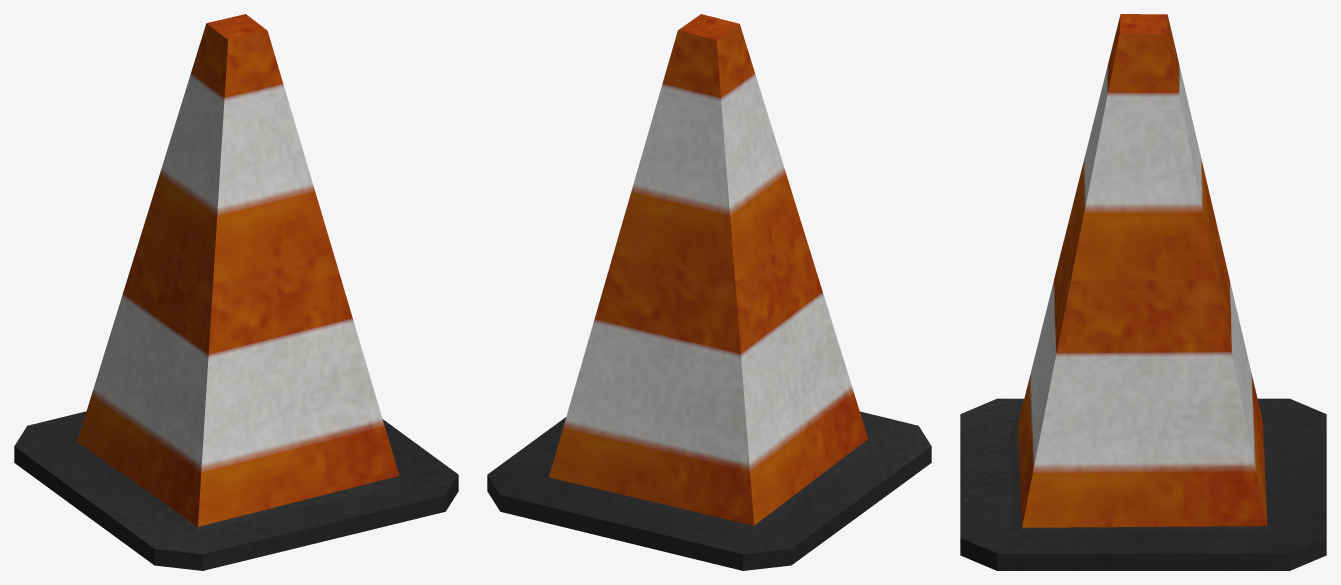
File: Urban_TrafficConeSquareRubber_Model.fbx
3 renders of one model, left to right at view 1: azimuth 30°, elevation 25°; view 2: azimuth 150°, elevation 25°; view 3: azimuth 270°, elevation 25°, orthographic. The views are drawn at different scales.
Visible parts, largest first — view 1: Urban_TrafficConeSquareRubber_Mesh; view 2: Urban_TrafficConeSquareRubber_Mesh; view 3: Urban_TrafficConeSquareRubber_Mesh.
Part boxes in pixels (left/top/right/bottom): Urban_TrafficConeSquareRubber_Mesh: left=14, top=14, right=458, bottom=570; Urban_TrafficConeSquareRubber_Mesh: left=487, top=14, right=931, bottom=570; Urban_TrafficConeSquareRubber_Mesh: left=960, top=14, right=1326, bottom=570.
Bounding box in the file's own units: 0.4 × 0.5656 × 0.4.
